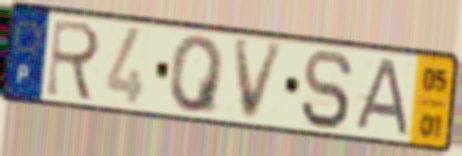4: (103, 23, 149, 111)
A: (348, 57, 413, 140)
Q: (168, 33, 228, 117)
R: (43, 16, 104, 105)
S: (297, 47, 356, 132)
V: (231, 38, 289, 124)
